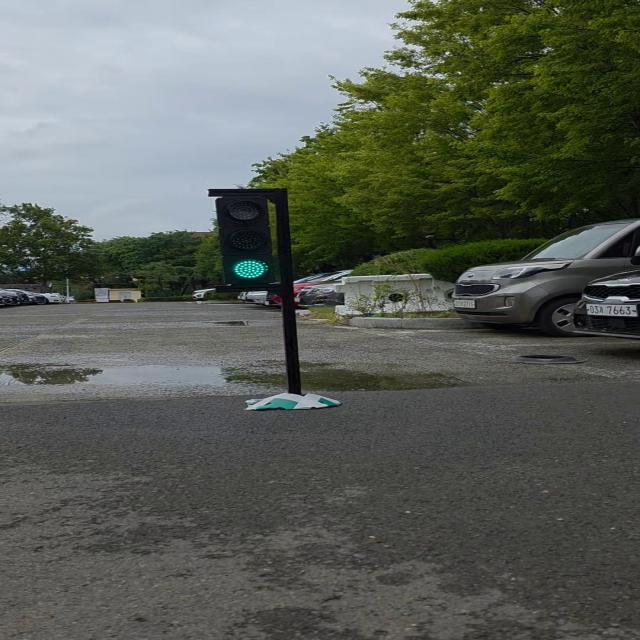green: (215, 188, 287, 291)
